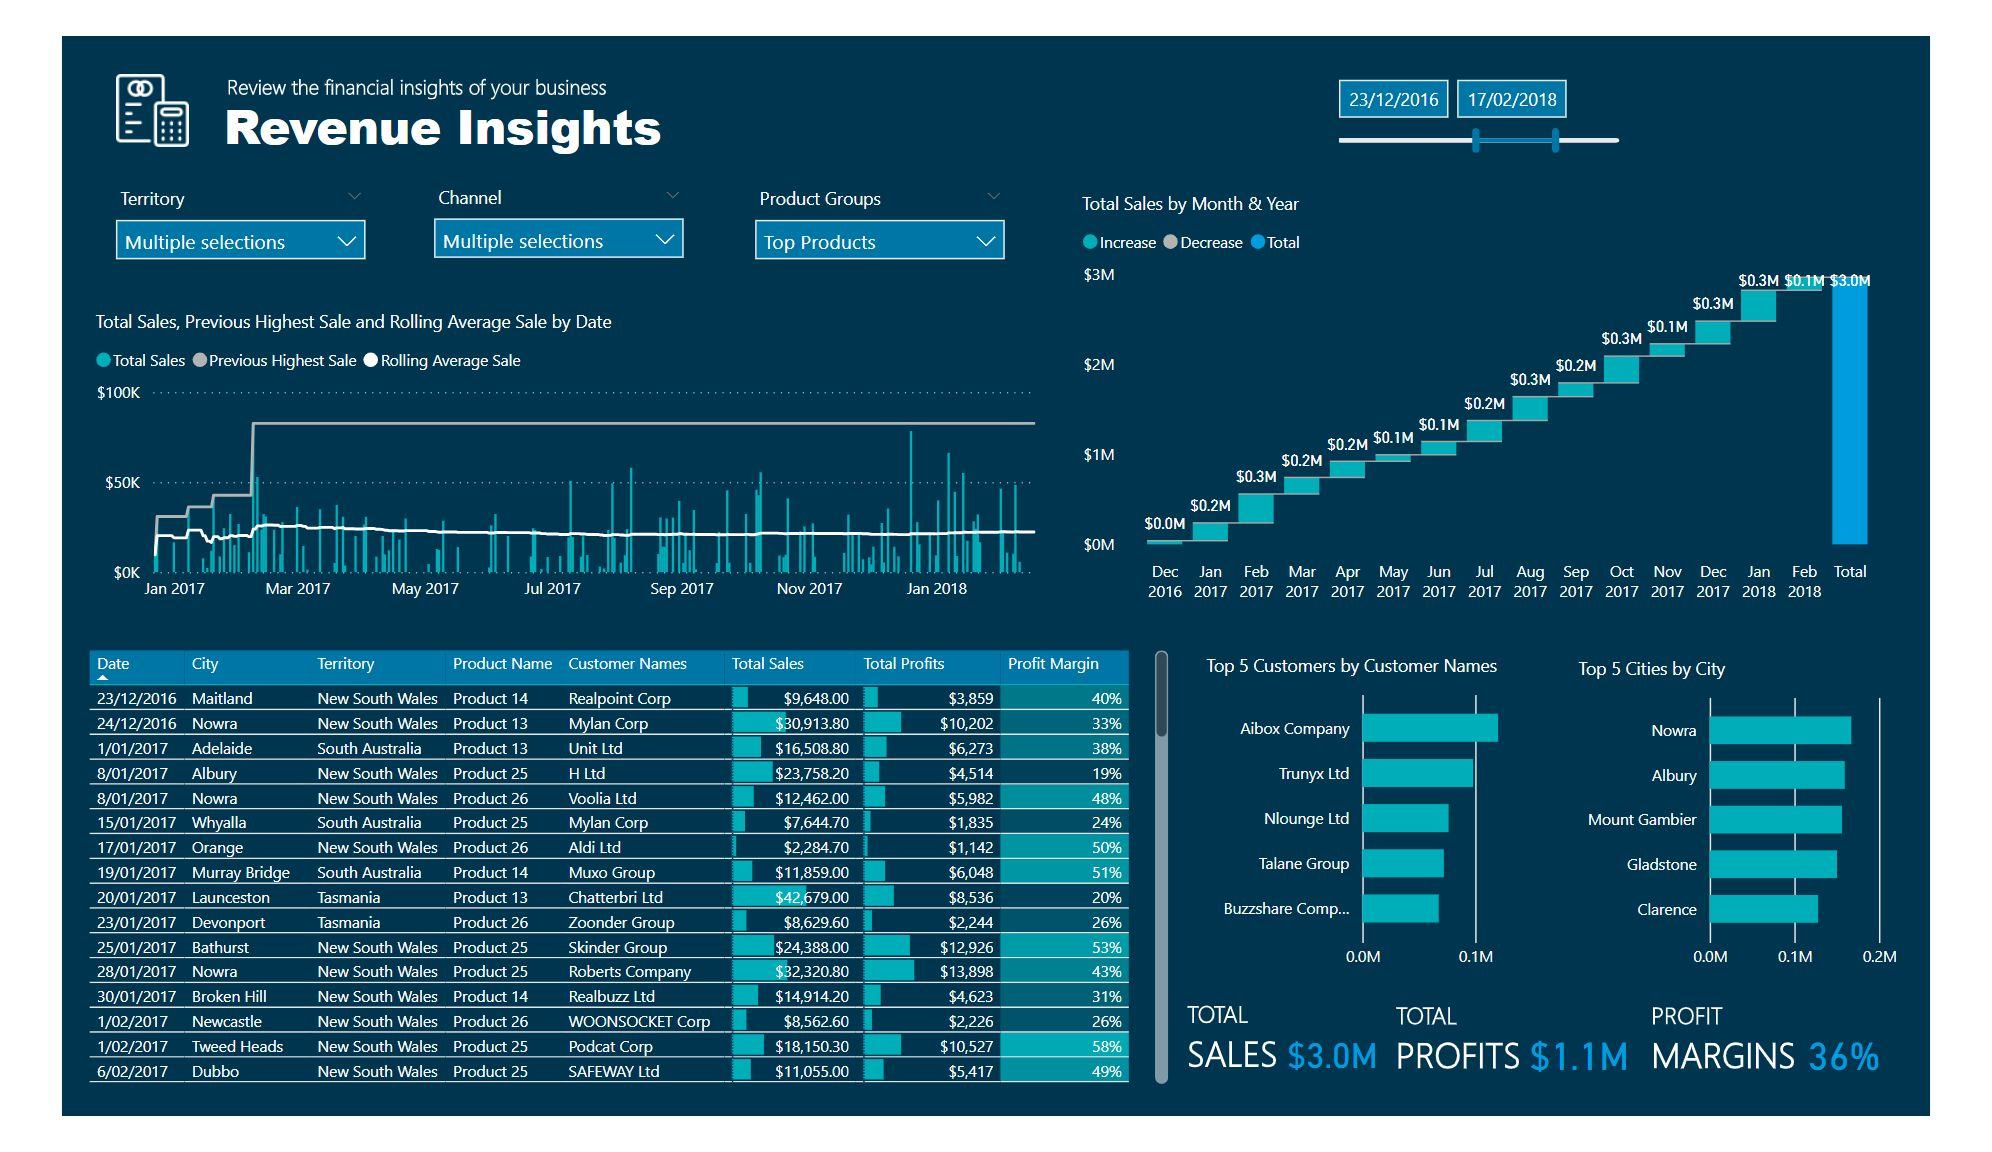

The dashboard page shown, as its layout file describes it:
{"tool":"powerbi","page":{"name":"Revenue Insights","canvas":[1280,720],"ordinal":6},"visuals":[{"type":"textbox","box":[107.6,0,291.5,34.4],"z":0},{"type":"textbox","box":[766.3,633.9,83.4,71.1],"z":1000},{"type":"textbox","box":[105.5,14.5,370.4,60],"z":2000},{"type":"image","box":[18.3,1.1,88.2,60.2],"z":3000},{"type":"lineStackedColumnComboChart","fields":{"Category":["Dates.Date"],"Y":["Key Measures.Total Sales"],"Y2":["Key Measures.Previous Highest Sale","Key Measures.Rolling Average Sale"]},"box":[18.4,166.7,675.6,208.4],"z":6000},{"type":"waterfallChart","fields":{"Category":["Dates.Month & Year"],"Y":["Key Measures.Total Sales"]},"box":[693.9,85.8,561.5,289.3],"z":7000},{"type":"tableEx","fields":{"Values":["Dates.Date","Regions.City","Regions.Territory","Products.Product Name","Customers.Customer Names","Key Measures.Total Sales","Key Measures.Total Profits","Key Measures.Profit Margin"]},"box":[13.5,396,749.1,306.5],"z":8000},{"type":"slicer","fields":{"Values":["Regions.Territory"]},"box":[27,78.5,191.3,68.7],"z":9000},{"type":"slicer","fields":{"Values":["Dates.Date.Variation.Date Hierarchy.Year"]},"box":[861.9,0,218.2,71.1],"z":10000},{"type":"slicer","fields":{"Values":["Sales.Channel"]},"box":[245.2,77.2,191.3,68.7],"z":11000},{"type":"slicer","fields":{"Values":["Products.Product Groups"]},"box":[464.7,78.5,191.3,68.7],"z":12000},{"type":"barChart","fields":{"Category":["Regions.City"],"Y":["Key Measures.Top 5 Cities"]},"box":[1033.6,404.6,228,223.1],"z":13000},{"type":"barChart","fields":{"Category":["Customers.Customer Names"],"Y":["Key Measures.Top 5 Customers"]},"box":[778.5,403.4,245.2,224.4],"z":14000},{"type":"card","fields":{"Values":["Key Measures.Total Sales"]},"box":[821.5,648.6,98.1,57.6],"z":15000},{"type":"card","fields":{"Values":["Key Measures.Total Profits"]},"box":[995.6,648.6,87,57.6],"z":16000},{"type":"textbox","box":[908.5,635.1,115.2,63.8],"z":17000},{"type":"textbox","box":[1083.8,635.1,118.9,63.8],"z":18000},{"type":"card","fields":{"Values":["Key Measures.Profit Margin"]},"box":[1184.4,648.6,73.6,57.6],"z":19000}]}

Visuals, with their boxes in screenshot pixels (x1, y1, x2, y2), scaled from the page's 1280x720 canvas onto the 1992x1152 screenshot:
textbox: x1=167, y1=0, x2=621, y2=55
textbox: x1=1193, y1=1014, x2=1322, y2=1128
textbox: x1=164, y1=23, x2=741, y2=119
image: x1=28, y1=2, x2=166, y2=98
lineStackedColumnComboChart - Dates.Date x Key Measures.Total Sales: x1=29, y1=267, x2=1080, y2=600
waterfallChart - Dates.Month & Year x Key Measures.Total Sales: x1=1080, y1=137, x2=1954, y2=600
tableEx - Dates.Date x Regions.City: x1=21, y1=634, x2=1187, y2=1124
slicer - Regions.Territory: x1=42, y1=126, x2=340, y2=236
slicer - Dates.Date.Variation.Date Hierarchy.Year: x1=1341, y1=0, x2=1681, y2=114
slicer - Sales.Channel: x1=382, y1=124, x2=679, y2=233
slicer - Products.Product Groups: x1=723, y1=126, x2=1021, y2=236
barChart - Regions.City x Key Measures.Top 5 Cities: x1=1609, y1=647, x2=1963, y2=1004
barChart - Customers.Customer Names x Key Measures.Top 5 Customers: x1=1212, y1=645, x2=1593, y2=1004
card - Key Measures.Total Sales: x1=1278, y1=1038, x2=1431, y2=1130
card - Key Measures.Total Profits: x1=1549, y1=1038, x2=1685, y2=1130
textbox: x1=1414, y1=1016, x2=1593, y2=1118
textbox: x1=1687, y1=1016, x2=1872, y2=1118
card - Key Measures.Profit Margin: x1=1843, y1=1038, x2=1958, y2=1130
